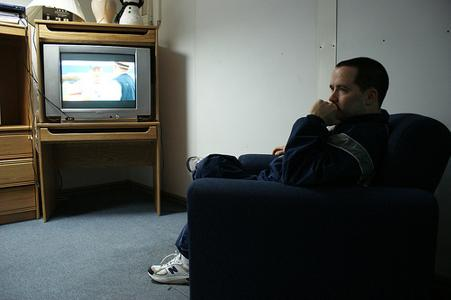person: (150, 56, 408, 288)
